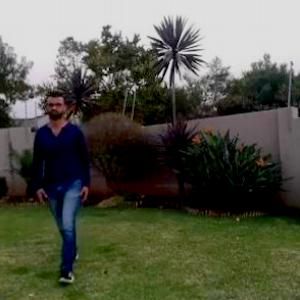follow: (44, 94, 90, 255)
